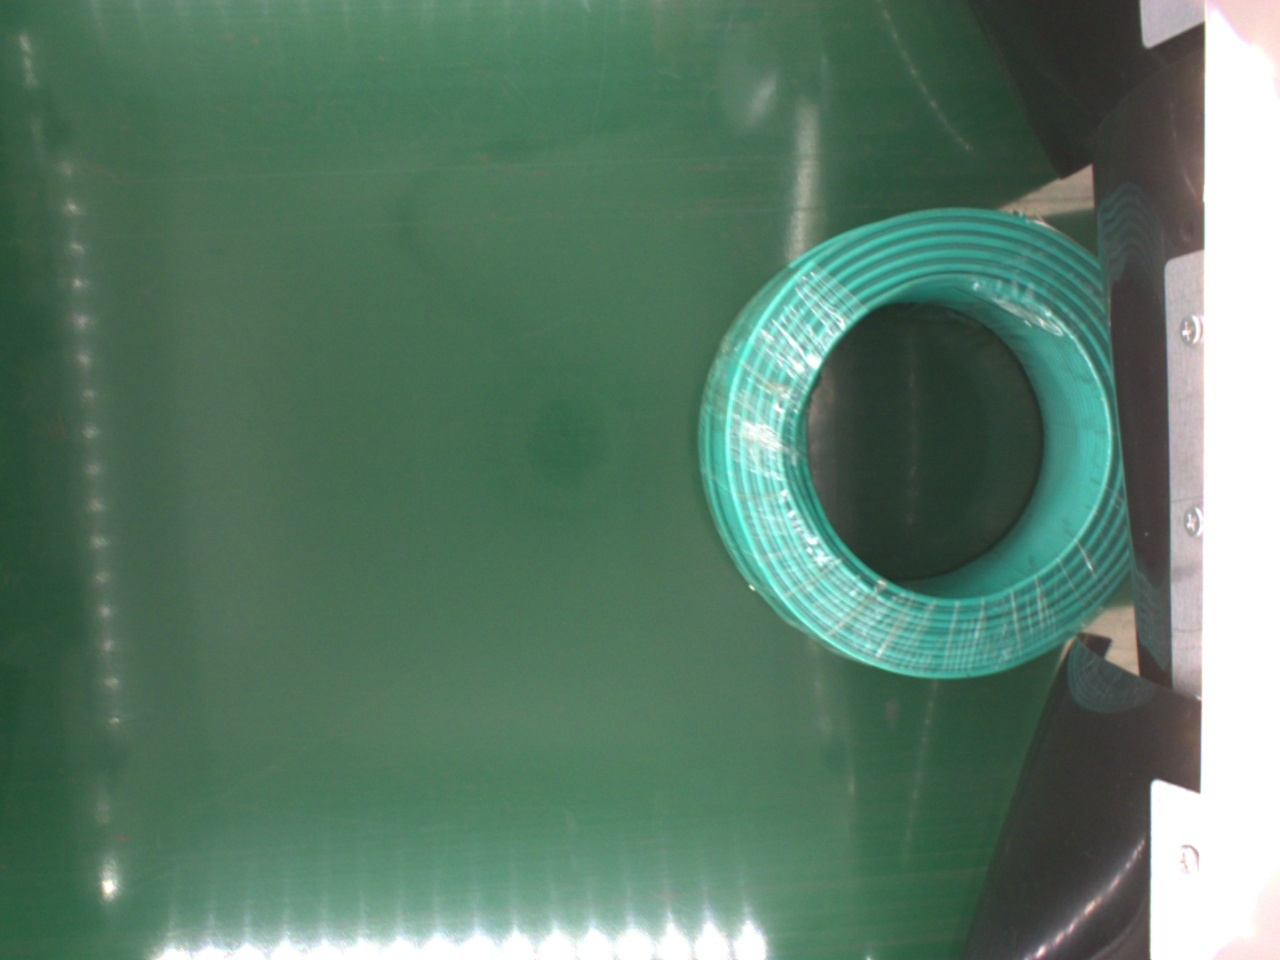green: (690, 209, 1122, 684)
